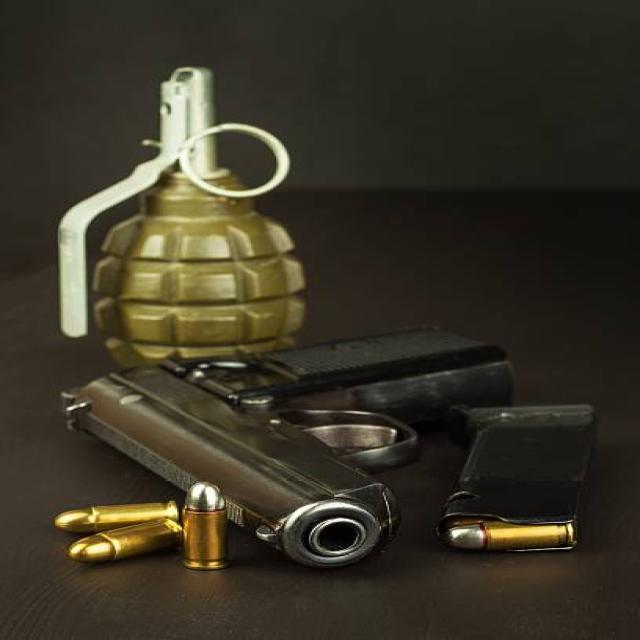grenade: (45, 57, 315, 359)
